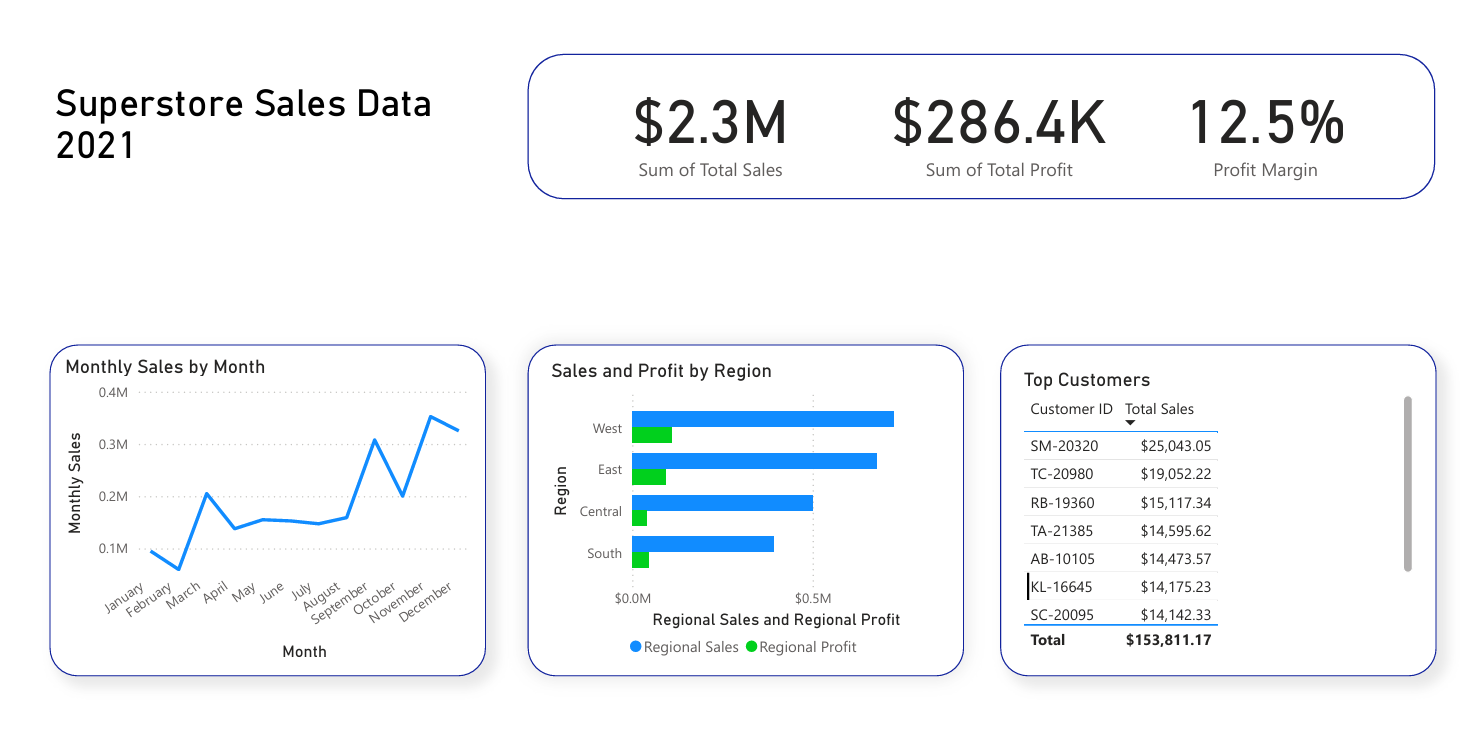

This screenshot's page, from the dashboard's own definition file:
{"tool":"powerbi","page":{"name":"Page 3","canvas":[1280,720],"ordinal":1},"visuals":[{"type":"shape","box":[445.6,41.4,806.7,129.2],"z":1000},{"type":"card","fields":{"Values":["Sum(Total Sales & Profits.Total Profit)"]},"box":[740.4,51.4,248.5,107.7],"z":2000},{"type":"card","fields":{"Values":["Sum(Total Sales & Profits.Total Sales)"]},"box":[498.6,51.4,218.7,107.7],"z":3000},{"type":"card","fields":{"Values":["Total Sales & Profits.Profit Margin"]},"box":[982.3,51.4,238.5,107.7],"z":4000},{"type":"clusteredBarChart","title":" Sales and Profit by Region","fields":{"Category":["Sales by Region.Region"],"Y":["Sum(Sales by Region.Regional_Sales)","Sum(Sales by Region.Regional_Profit)"]},"box":[445.6,299.8,387.6,294.9],"z":5000},{"type":"tableEx","title":"Top Customers","fields":{"Values":["Top 10 Customers.Customer ID","Sum(Top 10 Customers.Total_Sales)"]},"box":[864.7,299.8,387.6,294.9],"z":6000},{"type":"textbox","box":[19.9,26.5,367.7,157.4],"z":7000},{"type":"lineChart","fields":{"Category":["Monthly Sales.Month"],"Y":["Monthly Sales.Monthly Sales"]},"box":[19.9,299.8,387.6,294.9],"z":8000}]}

Visuals, with their boxes on the page's 1280x720 design canvas (x1, y1, x2, y2). These are canvas units, not pixel positions in the 1483x745 screenshot, which may show the page scaled, cropped or inside an application window:
shape: {"x1": 446, "y1": 41, "x2": 1252, "y2": 171}
card - Sum(Total Sales & Profits.Total Profit): {"x1": 740, "y1": 51, "x2": 989, "y2": 159}
card - Sum(Total Sales & Profits.Total Sales): {"x1": 499, "y1": 51, "x2": 717, "y2": 159}
card - Total Sales & Profits.Profit Margin: {"x1": 982, "y1": 51, "x2": 1221, "y2": 159}
" Sales and Profit by Region" clusteredBarChart: {"x1": 446, "y1": 300, "x2": 833, "y2": 595}
"Top Customers" tableEx: {"x1": 865, "y1": 300, "x2": 1252, "y2": 595}
textbox: {"x1": 20, "y1": 26, "x2": 388, "y2": 184}
lineChart - Monthly Sales.Month x Monthly Sales.Monthly Sales: {"x1": 20, "y1": 300, "x2": 408, "y2": 595}
